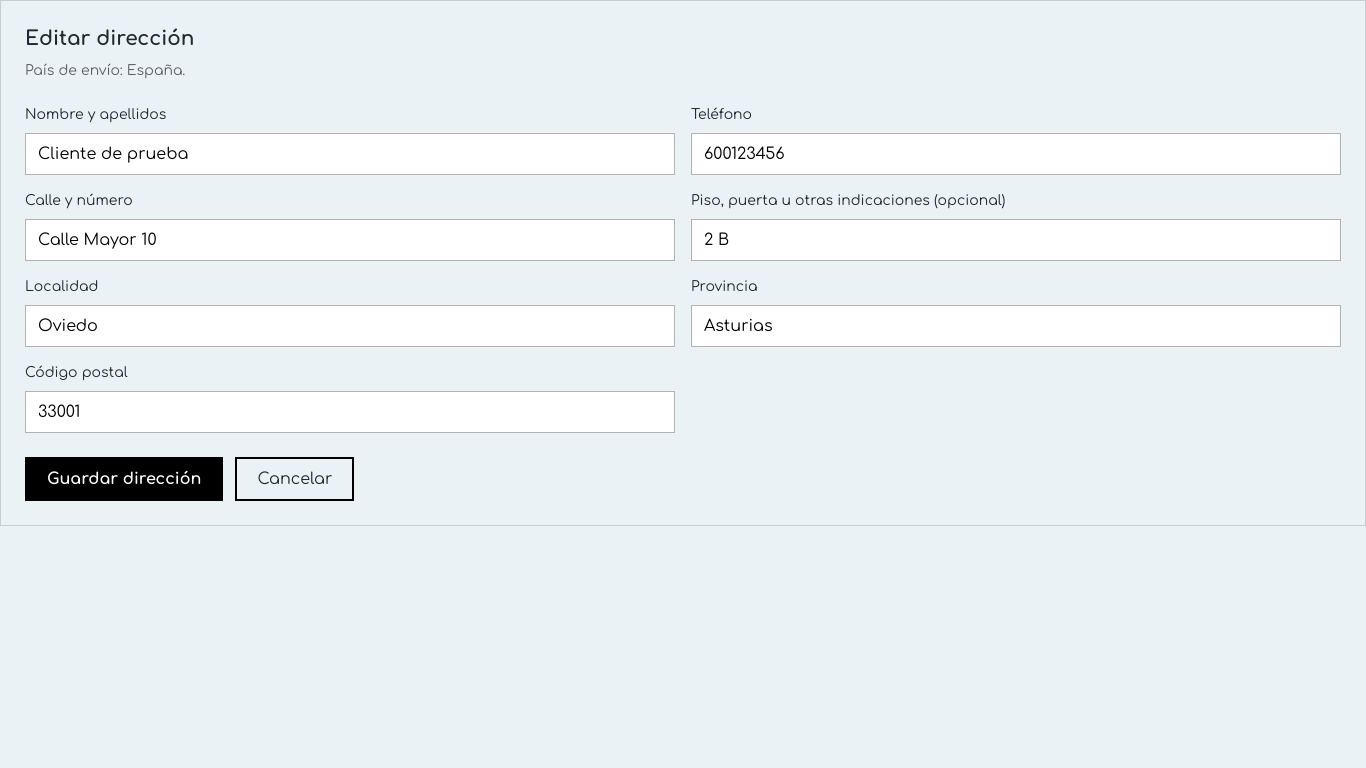
ShippingAddressForm › rejects an invalid phone
Replace the text in the field labelled "Teléfono" with "abcdefghi" at (1016,154), box [691, 133, 1341, 175]
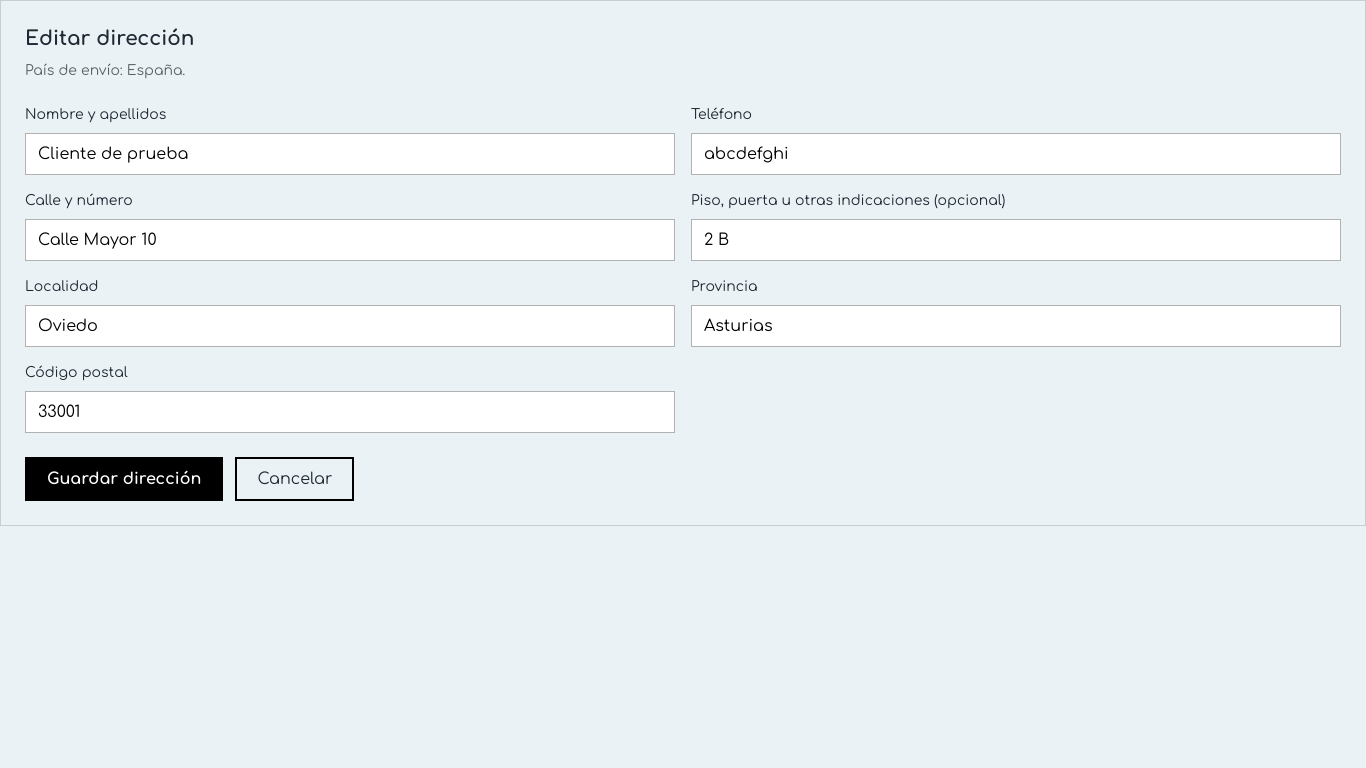
Submit the form
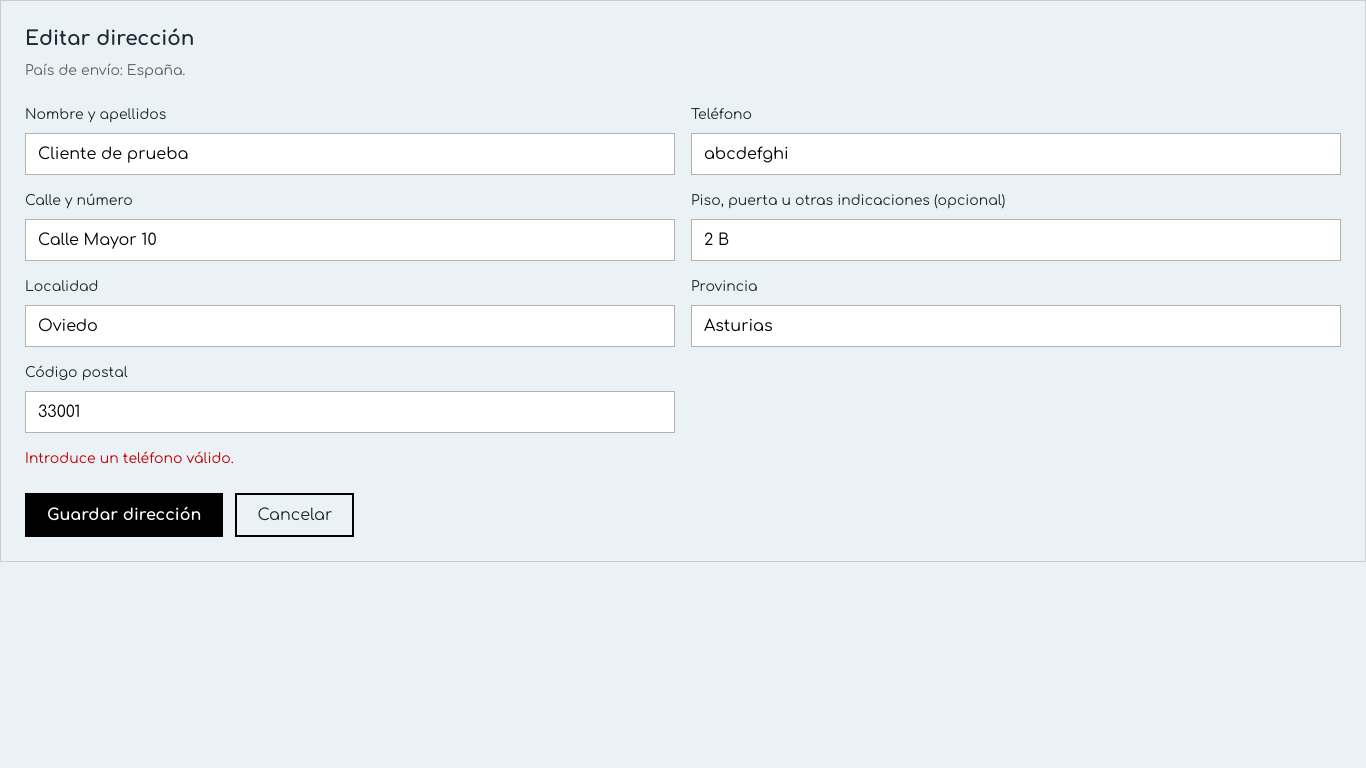
Check: the message "Introduce un teléfono válido." is shown, box [25, 451, 234, 466]
